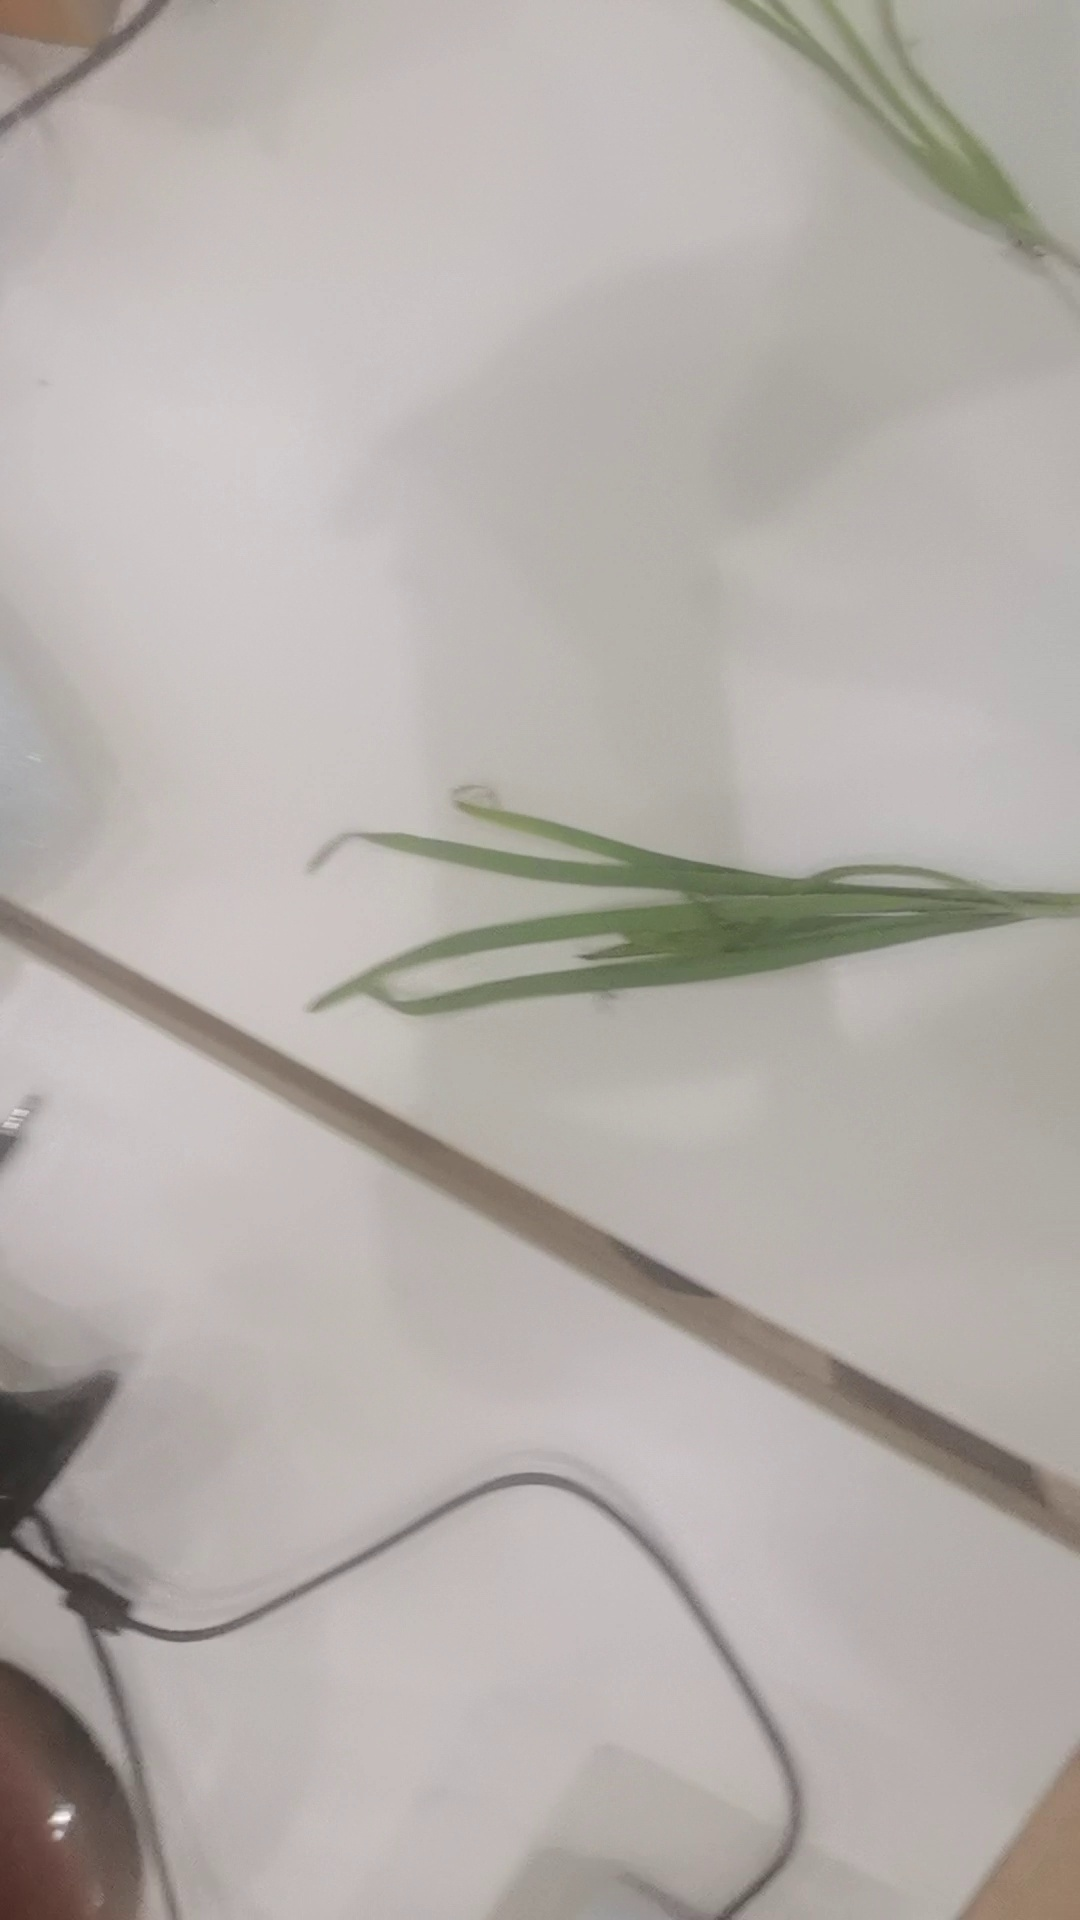chives: (287, 780, 1080, 1074), (728, 7, 1080, 290)
